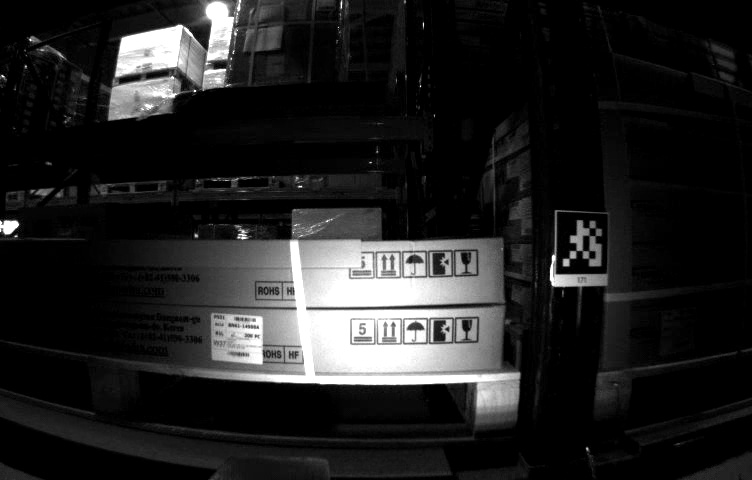True Barcode: (214, 310, 263, 363), (661, 302, 707, 352)
